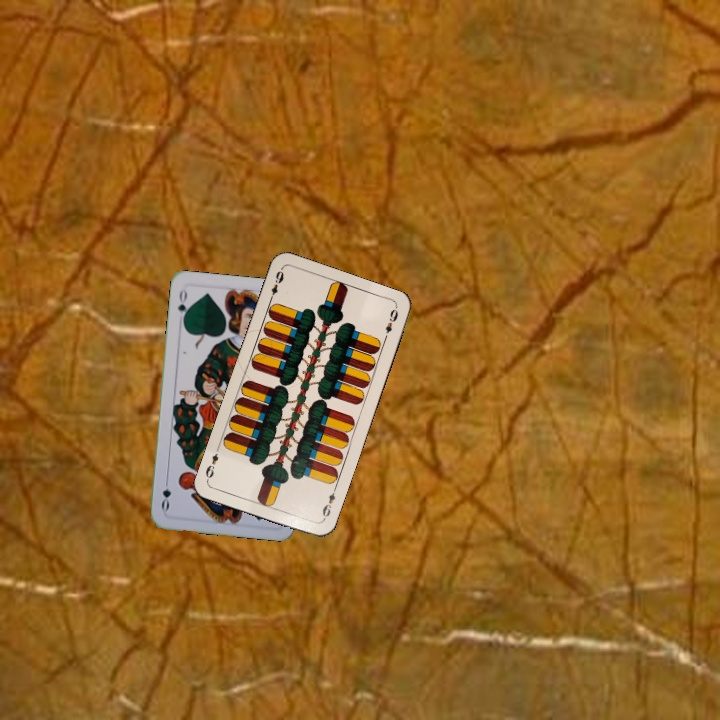E9: (318, 484, 339, 523), (265, 267, 286, 304)
GO: (173, 285, 191, 326)
